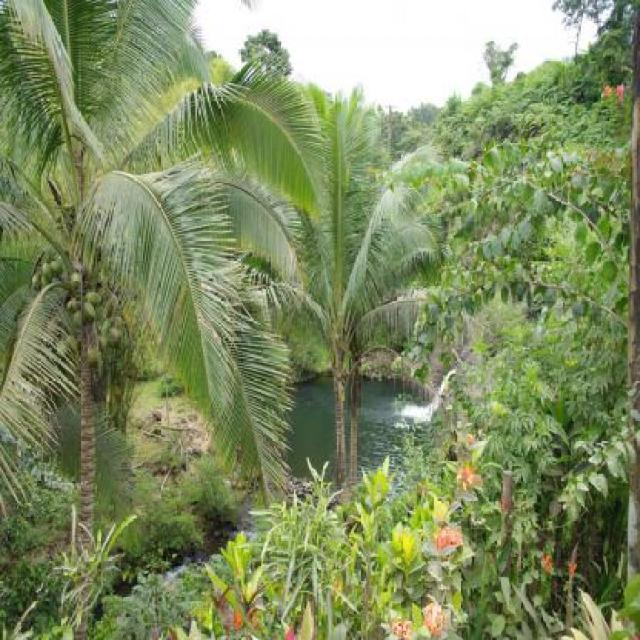Coconut: (29, 254, 123, 371)
